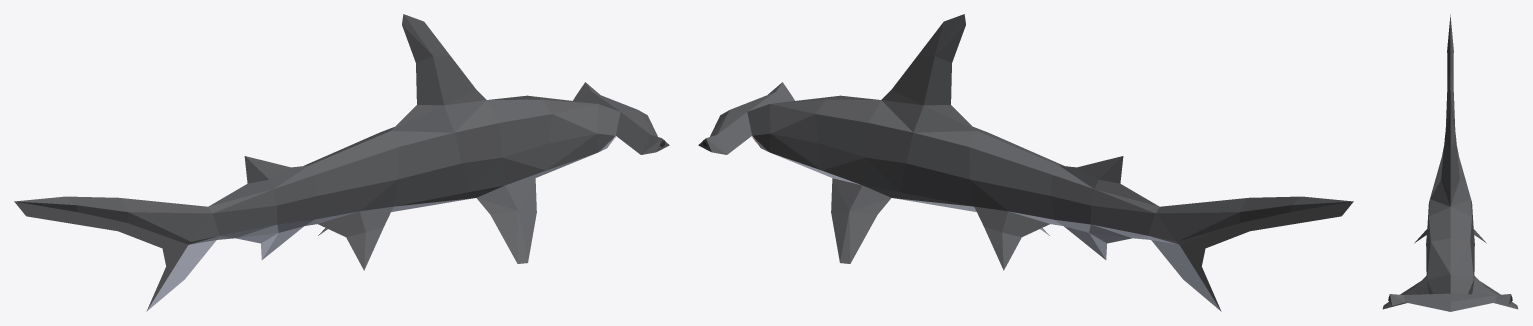
File: Hammerhead Shark.fbx
The picture shows the model from 3 angles, left to right: view 1: azimuth 30°, elevation 25°; view 2: azimuth 150°, elevation 25°; view 3: azimuth 270°, elevation 25°; orthographic projection. The views are drawn at different scales.
Parts seen in each view (by area): view 1: Hammerhead Shark; view 2: Hammerhead Shark; view 3: Hammerhead Shark.
Boxes of the visible parts, <box> form: Hammerhead Shark: <box>14,14,669,311</box>; Hammerhead Shark: <box>698,14,1353,311</box>; Hammerhead Shark: <box>1382,14,1518,311</box>.
Bounding box in the file's own units: 21.97 × 7.87 × 5.18.
